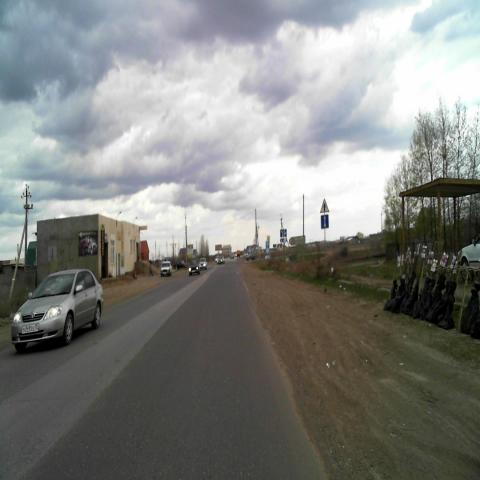2_3: (319, 198, 330, 213)
5_8: (321, 215, 329, 229)
